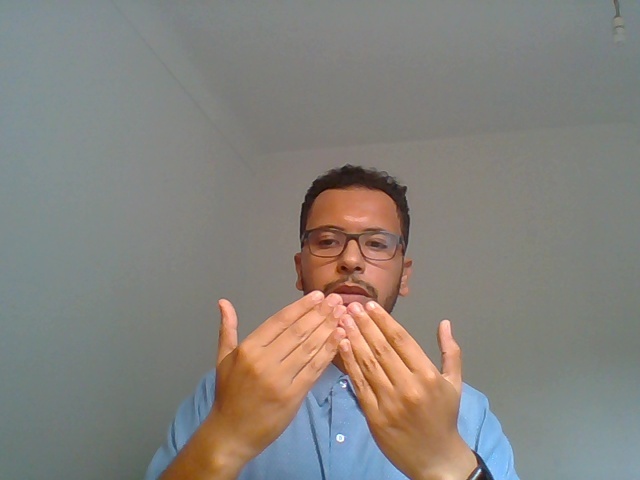thanks: (165, 277, 509, 480)
